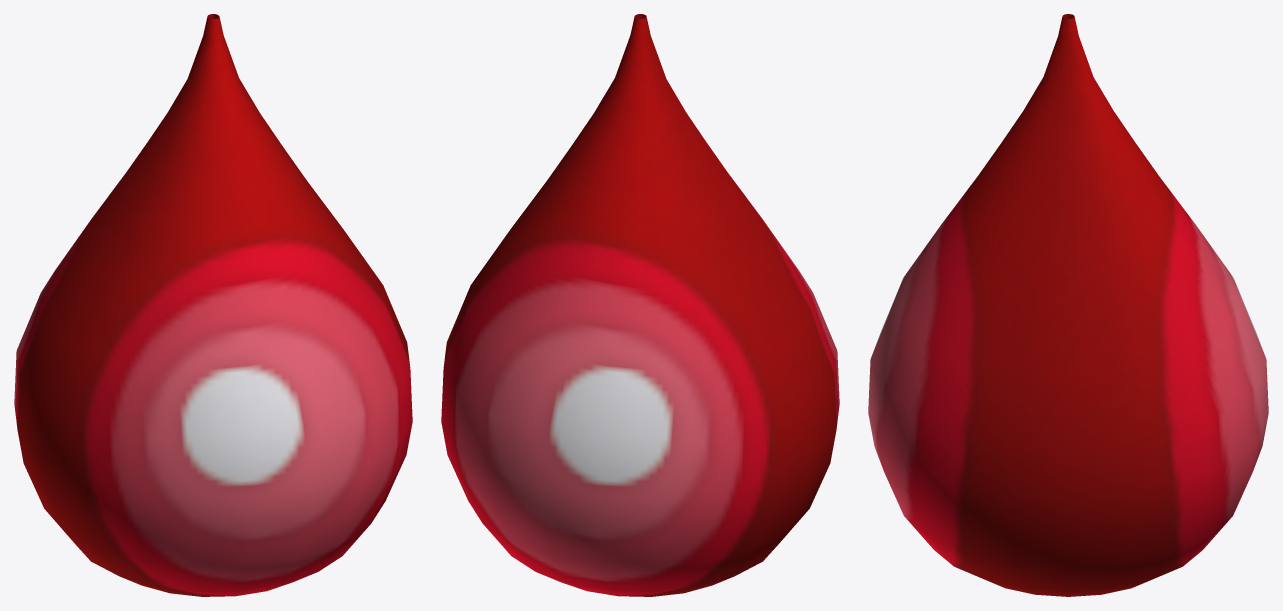
The picture shows the model from 3 angles, left to right: view 1: azimuth 30°, elevation 25°; view 2: azimuth 150°, elevation 25°; view 3: azimuth 270°, elevation 25°; orthographic projection.
Visible parts, largest first — view 1: V5_Christmas Collection19_V5_Christmas Collection_0; view 2: V5_Christmas Collection19_V5_Christmas Collection_0; view 3: V5_Christmas Collection19_V5_Christmas Collection_0.
Part boxes in pixels (bbox=[...]): V5_Christmas Collection19_V5_Christmas Collection_0: bbox=[14, 14, 412, 596]; V5_Christmas Collection19_V5_Christmas Collection_0: bbox=[441, 14, 839, 596]; V5_Christmas Collection19_V5_Christmas Collection_0: bbox=[868, 14, 1268, 596].
Bounding box in the file's own units: 15.38 × 23.74 × 15.39.
Materials: 1 (1 with a texture image).
